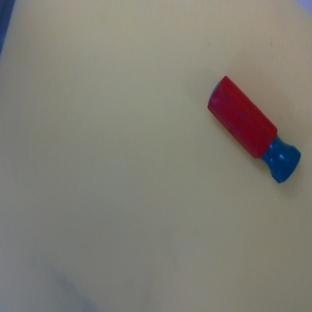part_2_good: (200, 75, 307, 186)
